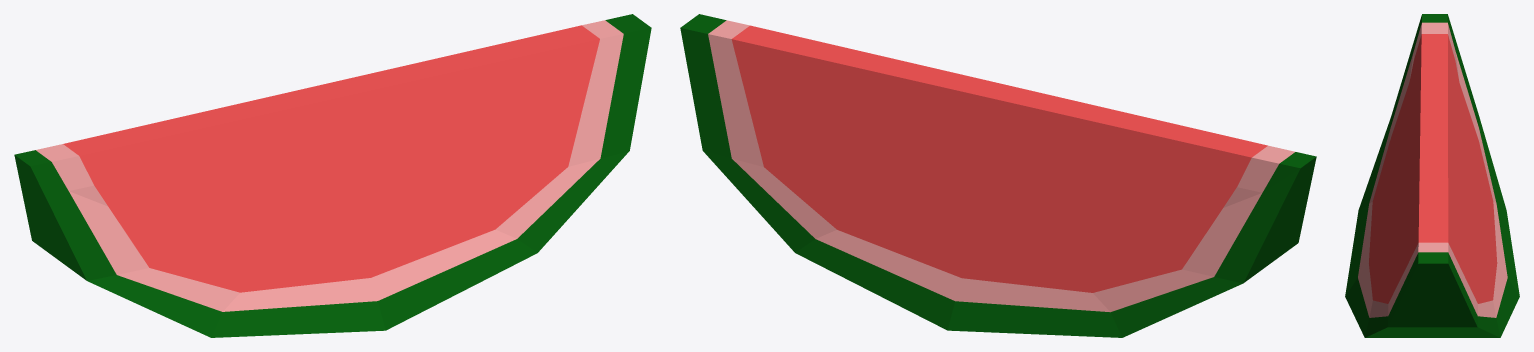
Rendered from watermelon03.gltf.
The picture shows the model from 3 angles, left to right: view 1: azimuth 30°, elevation 25°; view 2: azimuth 150°, elevation 25°; view 3: azimuth 270°, elevation 25°; orthographic projection. The views are drawn at different scales.
Visible parts, largest first — view 1: Cylinder.001; view 2: Cylinder.001; view 3: Cylinder.001.
Part boxes in pixels (x1,y1,x2,y2): Cylinder.001: (14,14,651,337); Cylinder.001: (680,14,1316,337); Cylinder.001: (1345,14,1519,337).
Size of the model in its own units: 0.2047 by 0.0645 by 0.0627.
Materials: 1 (1 with a texture image).
